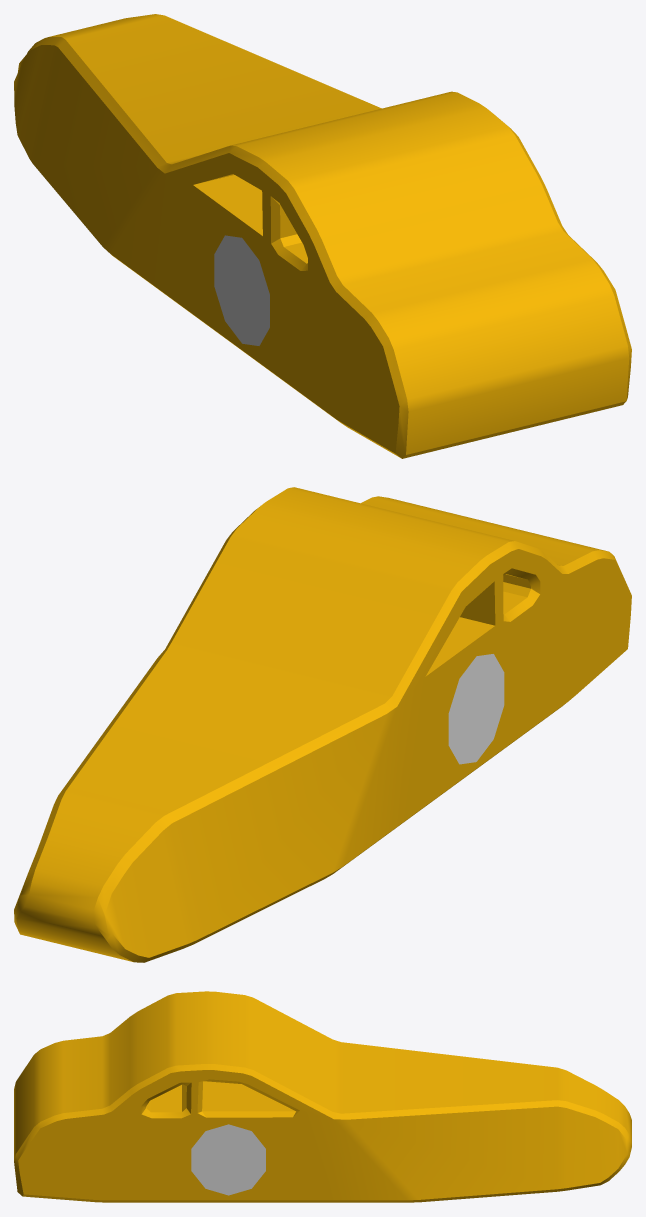
The model's file is car3.fbx.
3 renders of one model, top to bottom at view 1: azimuth 30°, elevation 25°; view 2: azimuth 150°, elevation 25°; view 3: azimuth 270°, elevation 25°, orthographic. The views are drawn at different scales.
Visible parts, largest first — view 1: car3, number_plate.005; view 2: car3, number_plate.005; view 3: car3, number_plate.004.
Boxes of the visible parts, box(x1,y1,x2,y2) form: car3: box(14, 14, 631, 458); number_plate.005: box(214, 235, 269, 345); car3: box(14, 487, 631, 962); number_plate.005: box(448, 654, 504, 764); car3: box(14, 991, 631, 1202); number_plate.004: box(191, 1124, 265, 1195).
Bounding box in the file's own units: 244 × 205 × 828.
